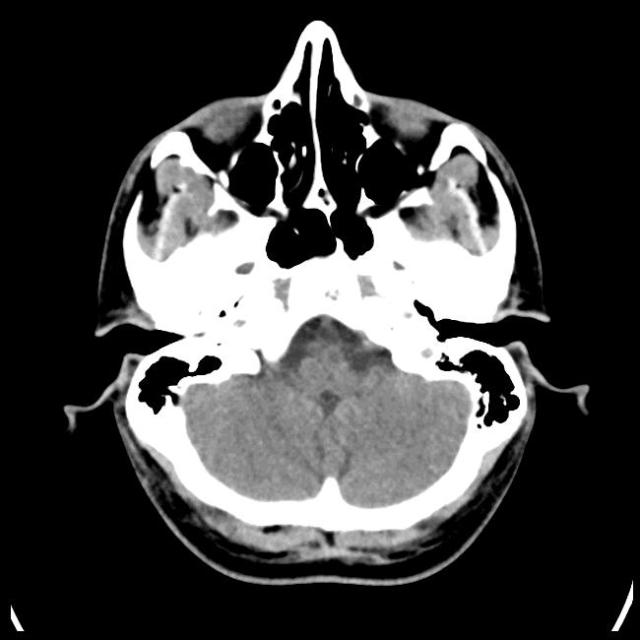lesion: (65, 19, 579, 588)
